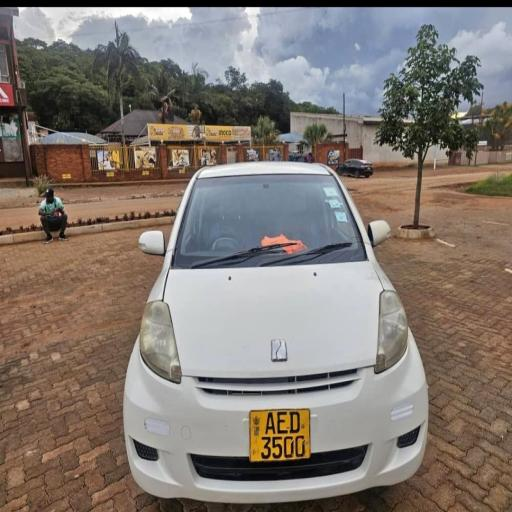number-plates: (248, 410, 312, 462)
